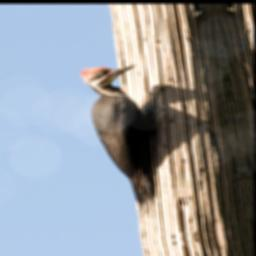Woodpecker: (78, 59, 184, 219)
